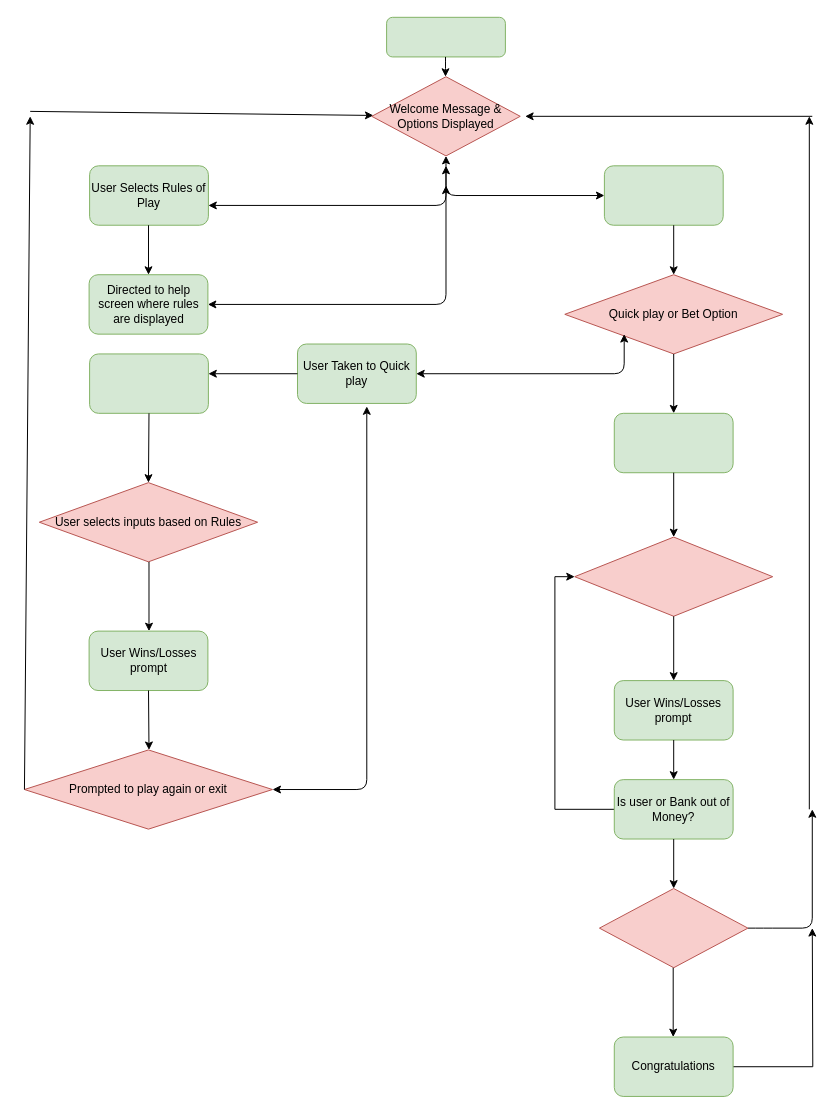
The diagram is 839 pixels wide and 1114 high, and some of its shapes have lost their labels. The centre of each missing label's shape, as x and y in pixels:
"Bank Looses" belongs at (x=673, y=928).
"Game Screen Displayed" belongs at (x=148, y=383).
"Launch Ruby Terminal Application" belongs at (x=445, y=36).
"User puts Bet" belongs at (x=673, y=576).
"User Selects to Play Blackjack" belongs at (x=663, y=195).
"User Taken to Bet" belongs at (x=673, y=442).
